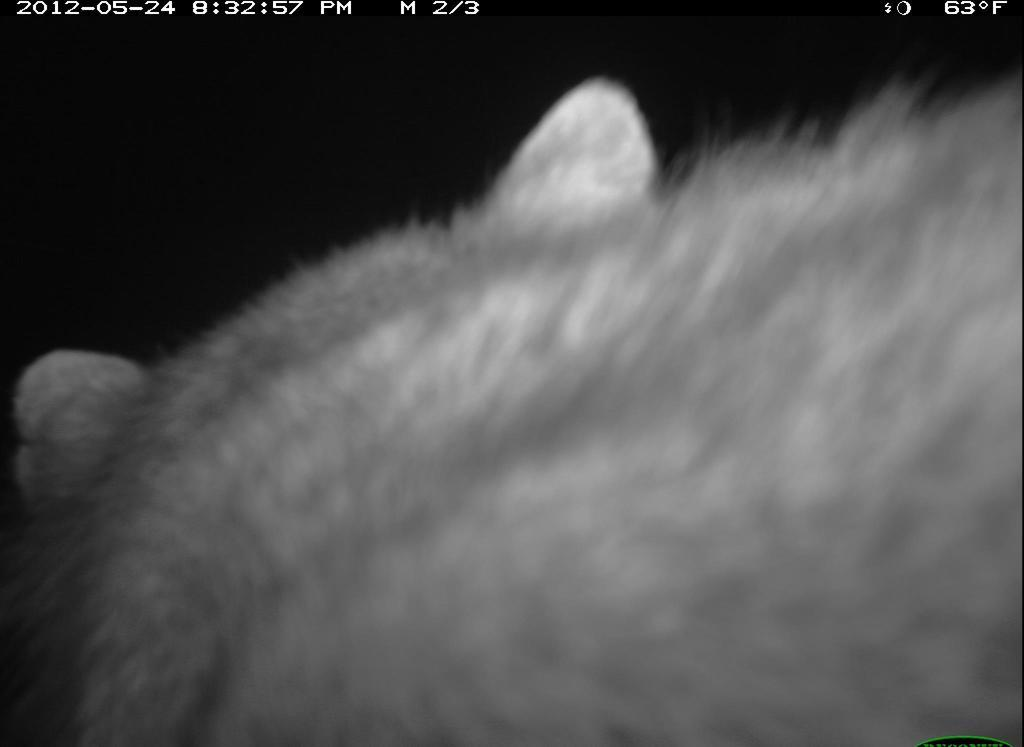raccoon: (6, 66, 1021, 743)
